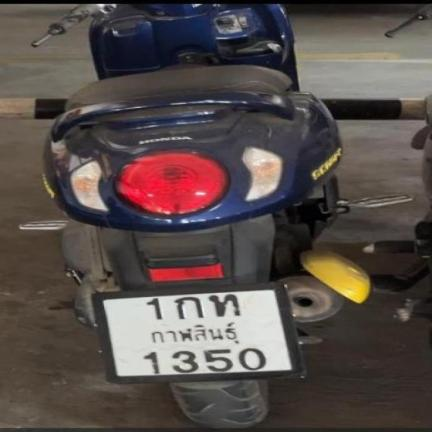0: (238, 347, 272, 371)
1: (141, 297, 166, 321), (140, 350, 162, 374)
3: (170, 348, 200, 375)
5: (202, 347, 235, 371)
A01: (171, 296, 206, 320)
A23: (209, 294, 243, 319)
KSN: (143, 321, 243, 344)
